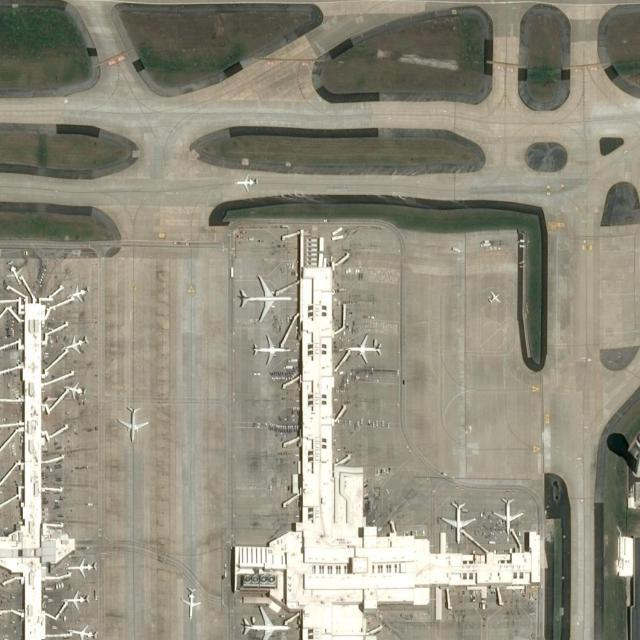Aircraft: (237, 272, 291, 322), (241, 604, 291, 640), (439, 498, 477, 544), (492, 493, 526, 539), (115, 403, 149, 444), (342, 334, 385, 366), (250, 335, 289, 366), (60, 585, 94, 610), (65, 555, 99, 579), (180, 585, 202, 617), (66, 281, 93, 305), (65, 621, 98, 640), (63, 331, 89, 355), (63, 380, 89, 402), (6, 260, 27, 287), (234, 171, 258, 194), (487, 288, 503, 308)
